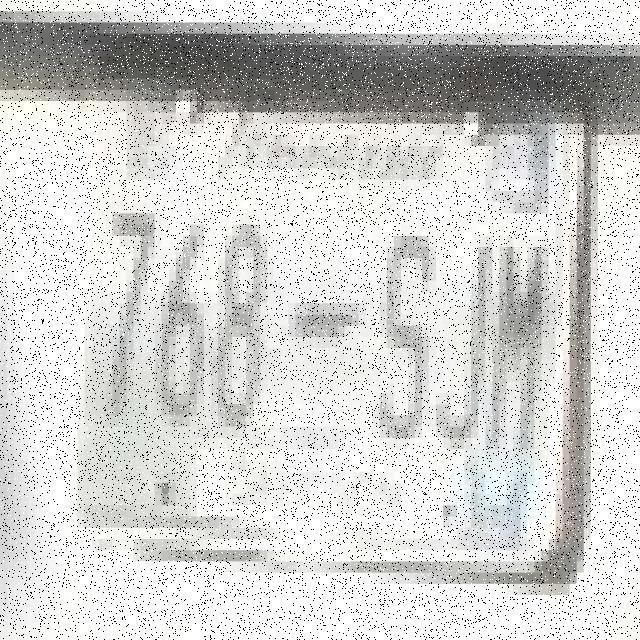LicensePlate: (64, 33, 575, 587)
